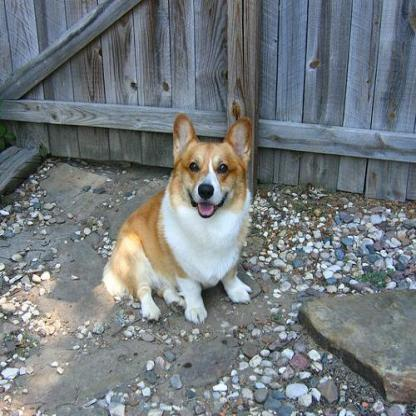Pembroke: (101, 111, 258, 326)
